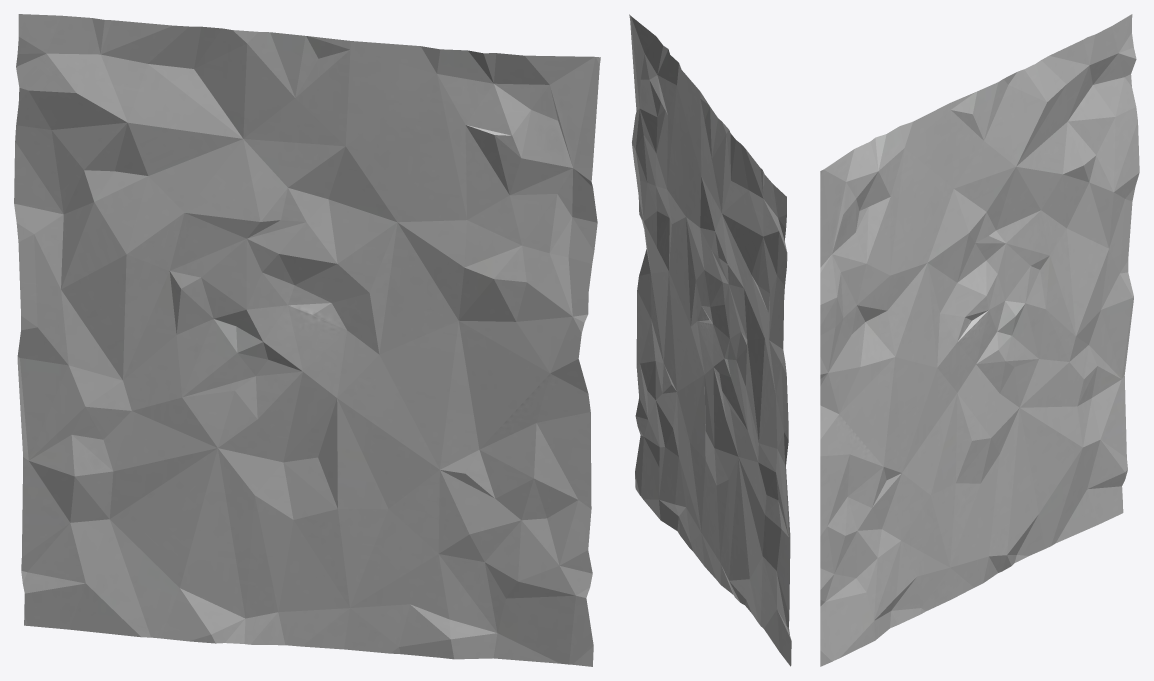
The picture shows the model from 3 angles, left to right: view 1: azimuth 30°, elevation 25°; view 2: azimuth 150°, elevation 25°; view 3: azimuth 270°, elevation 25°; orthographic projection. The views are drawn at different scales.
Size of the model in its own units: 0.5657 by 0.8373 by 0.4858.
Materials: 2 (2 with a texture image).
